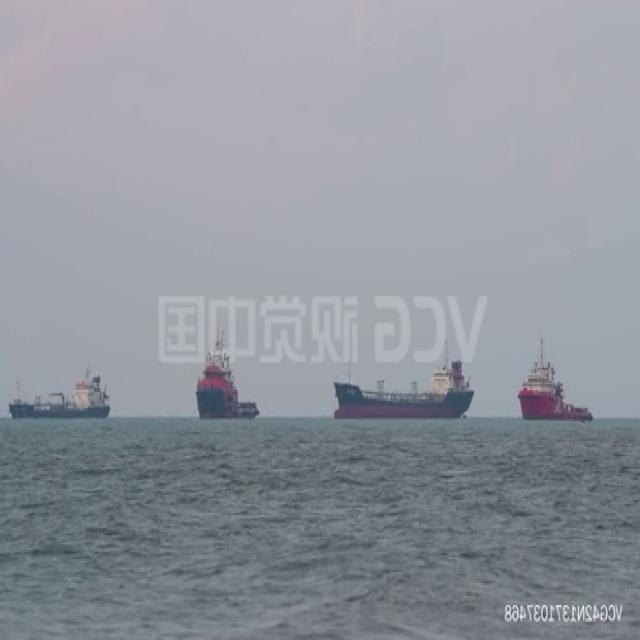cargoship: (330, 350, 477, 418), (520, 338, 599, 418), (195, 333, 260, 418)
